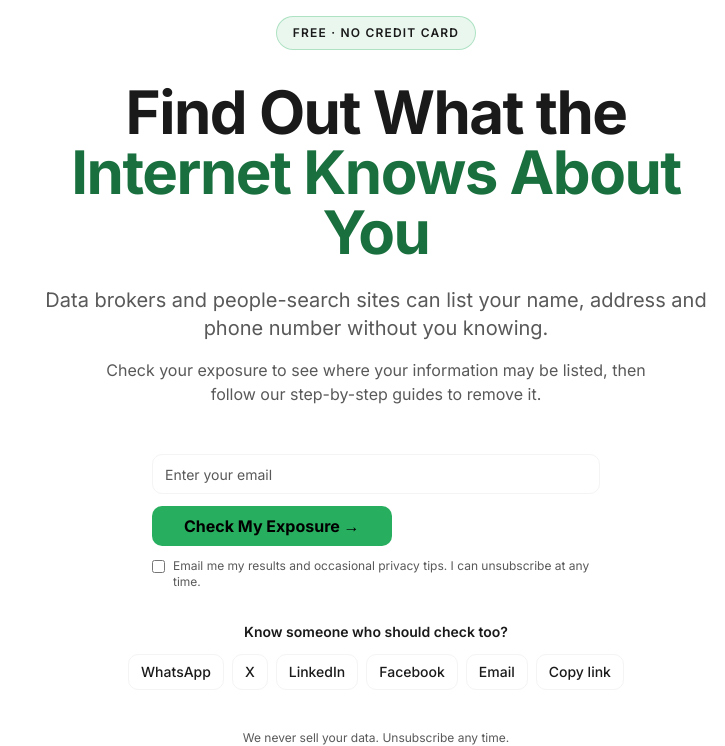
Test: Scan page: bad addresses (MPC-8453) › a domain the Worker refuses shows the specific message, no thank-you, and keeps the address for a fix
Type "wqefsda@made-up-domain.example" into the field named "Email address" at coordinates (376, 474), box [152,454,600,494]
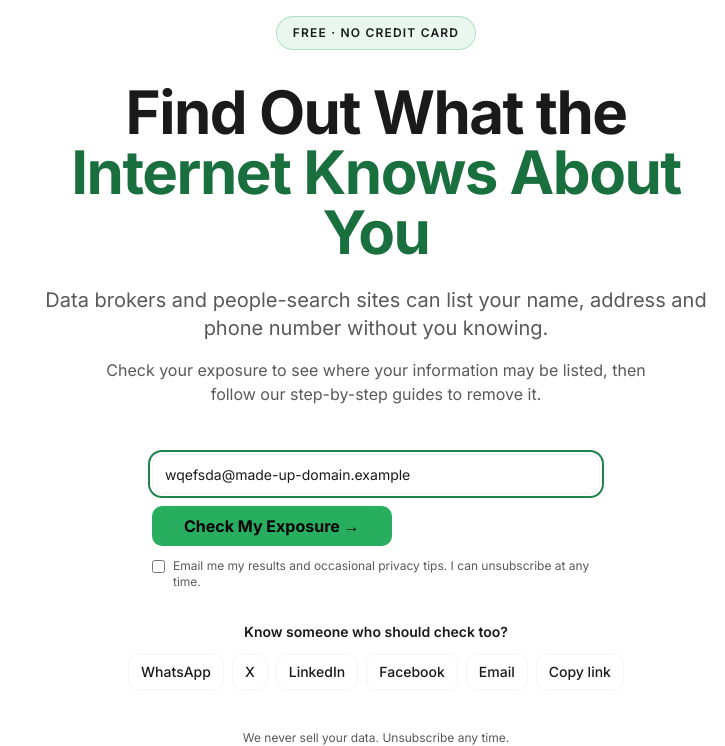
Click the checkbox labelled "Email me my results and occasional privacy tips" at coordinates (158, 566), box [152,560,165,573]
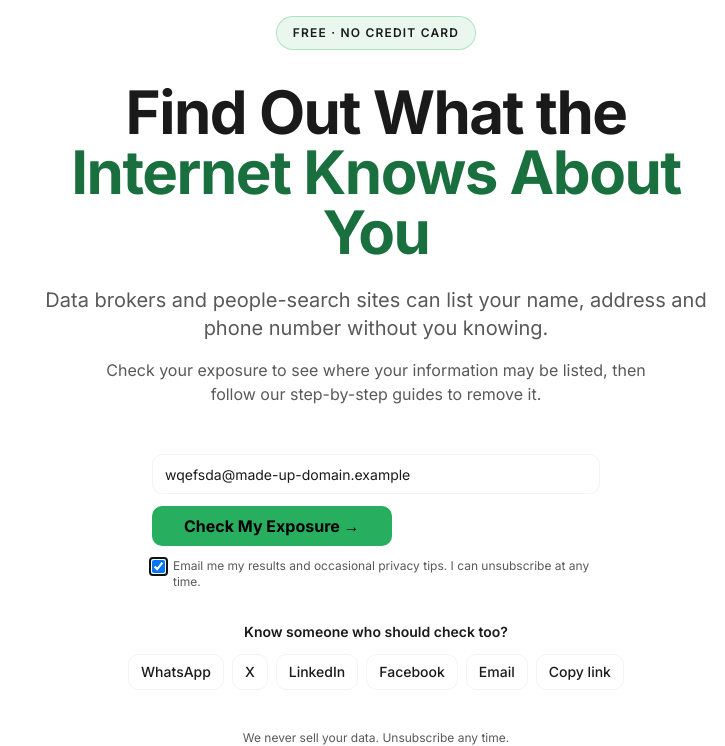
Click the button "Check My Exposure →" at coordinates (272, 526), box [152,506,392,546]
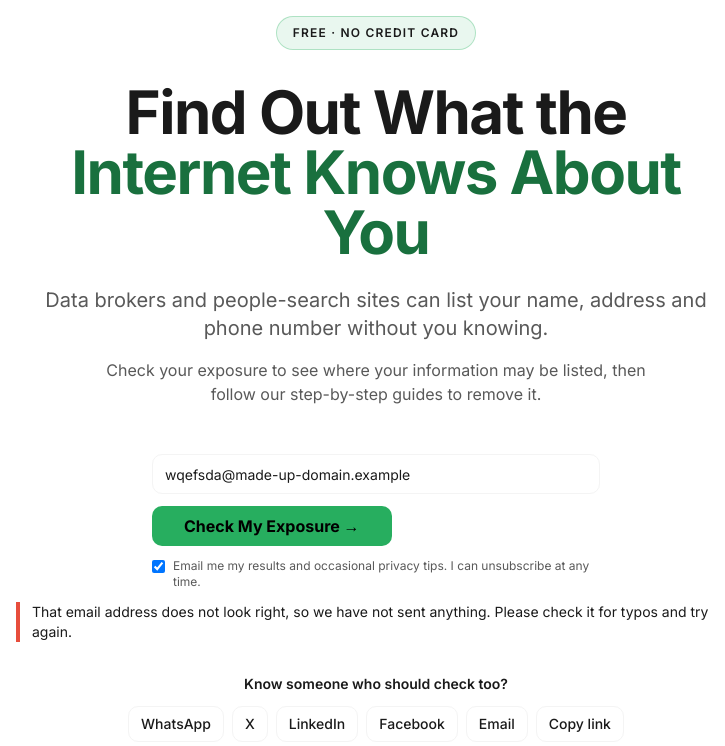
Expected: the message shows "That email address does not look right, so we have not sent anything. Please check it for typos and try again.", [32,603,708,640]
